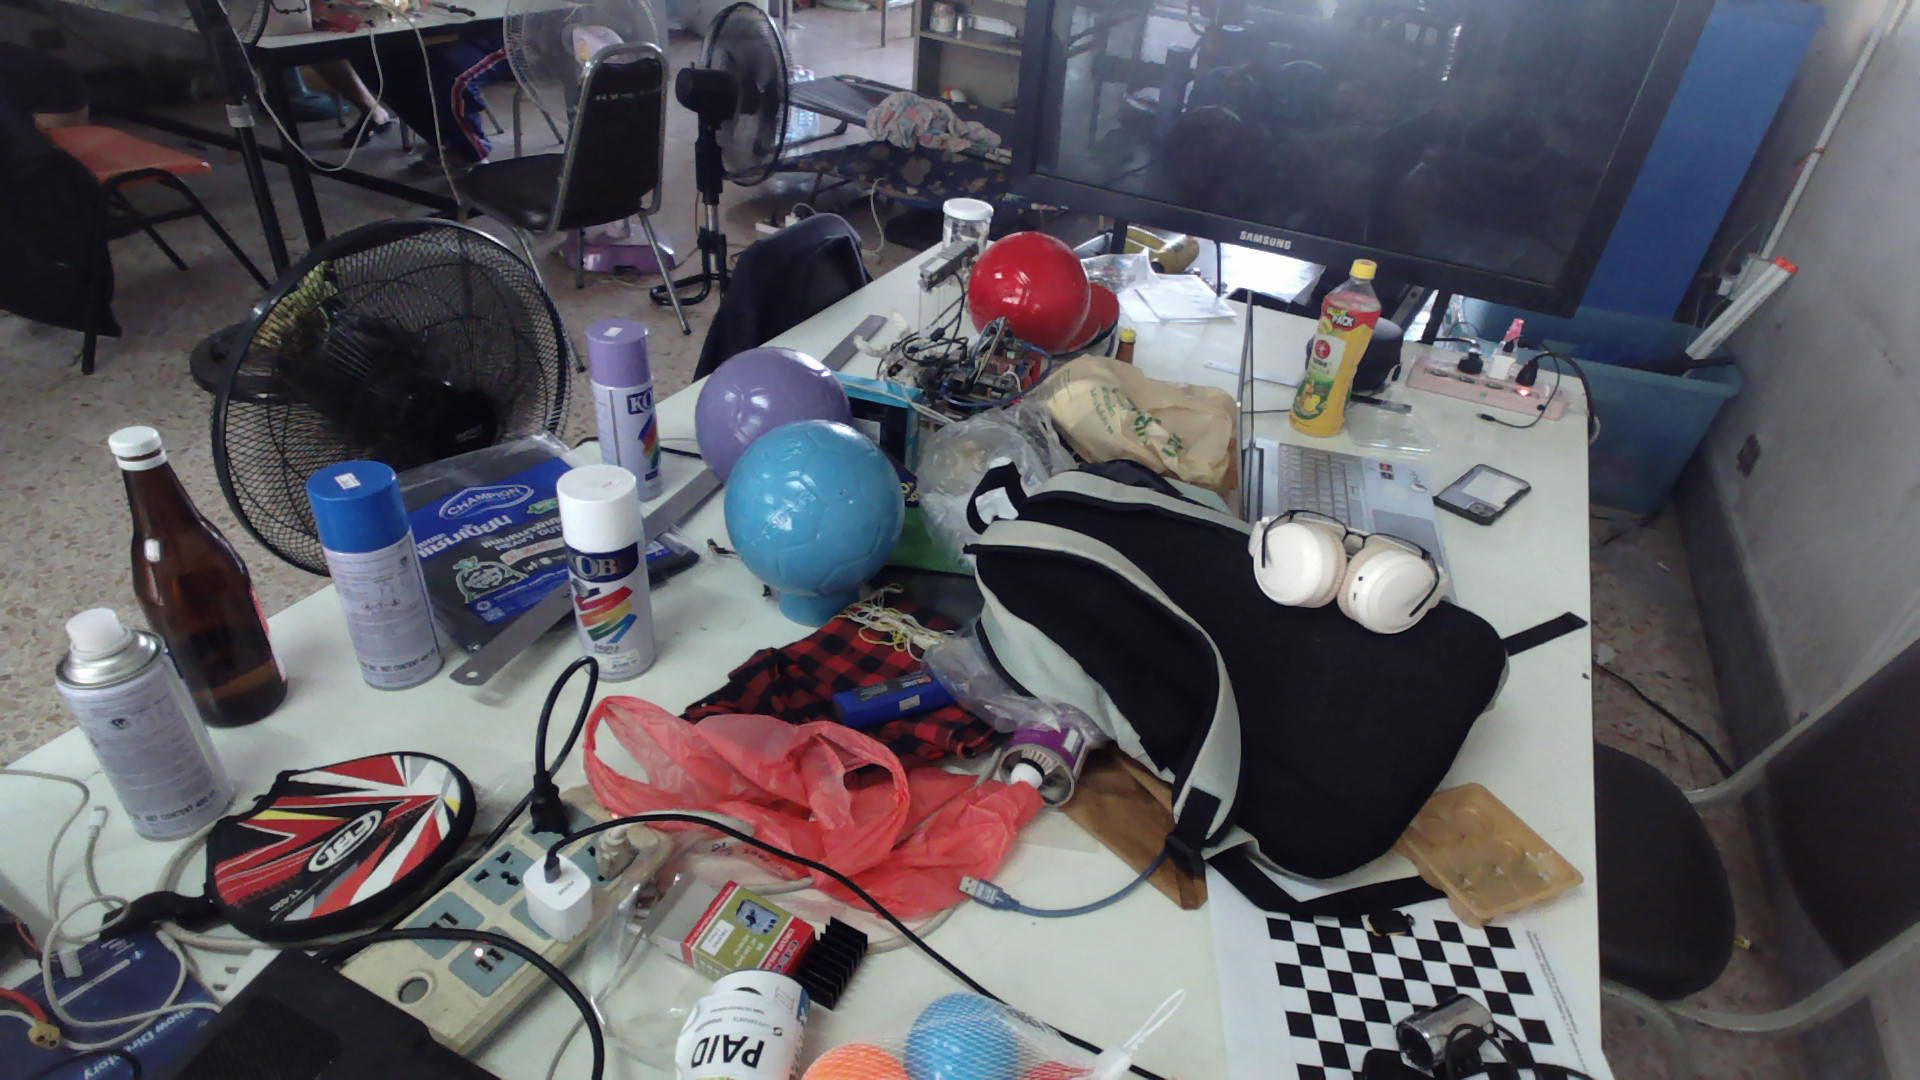Blue ball: (723, 418, 907, 603)
Purple ball: (694, 344, 851, 451)
Red ball: (965, 228, 1092, 353)
